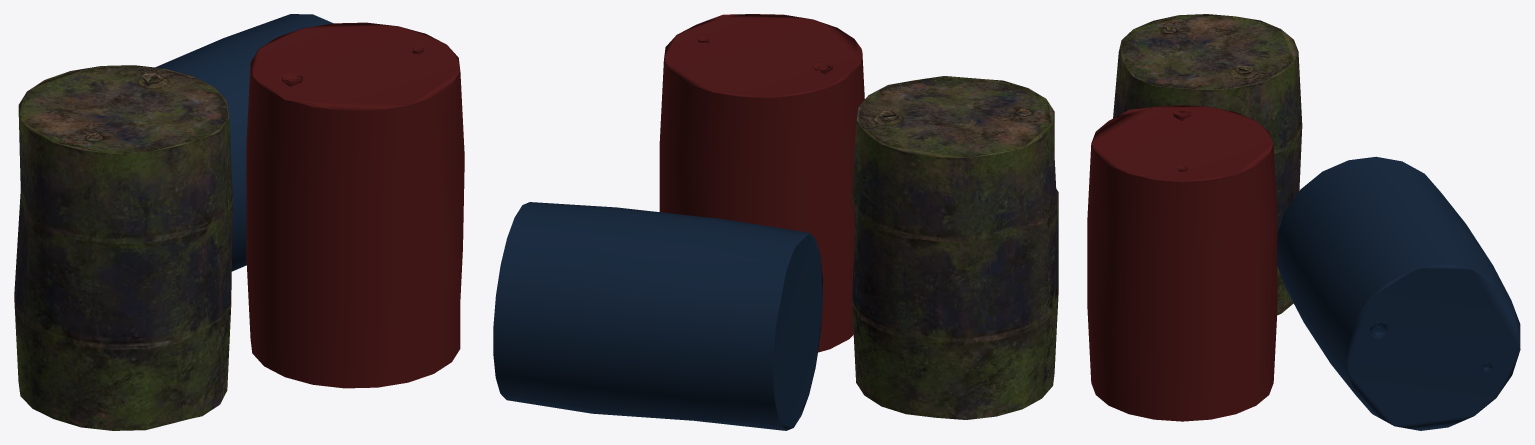
File: oil-drums.lod0.glb
3 renders of one model, left to right at view 1: azimuth 30°, elevation 25°; view 2: azimuth 150°, elevation 25°; view 3: azimuth 270°, elevation 25°, orthographic. The views are drawn at different scales.
Parts seen in each view (by area): view 1: Red_Drum_low_Mat_Oil_Drum_Red_0, Damaged_Drum_low_Mat_Oil_Drum_Damaged_0; view 2: Red_Drum_low_Mat_Oil_Drum_Red_0, Damaged_Drum_low_Mat_Oil_Drum_Damaged_0; view 3: Red_Drum_low_Mat_Oil_Drum_Red_0, Damaged_Drum_low_Mat_Oil_Drum_Damaged_0.
Boxes of the visible parts, x1,y1,x2,y2 form: Red_Drum_low_Mat_Oil_Drum_Red_0: [155, 14, 464, 388]; Damaged_Drum_low_Mat_Oil_Drum_Damaged_0: [14, 65, 232, 430]; Red_Drum_low_Mat_Oil_Drum_Red_0: [493, 14, 864, 430]; Damaged_Drum_low_Mat_Oil_Drum_Damaged_0: [852, 76, 1058, 419]; Red_Drum_low_Mat_Oil_Drum_Red_0: [1087, 105, 1520, 430]; Damaged_Drum_low_Mat_Oil_Drum_Damaged_0: [1113, 14, 1302, 315].
Bounding box in the file's own units: 1.8 × 1.08 × 1.73.
2 materials, 1 textured.
